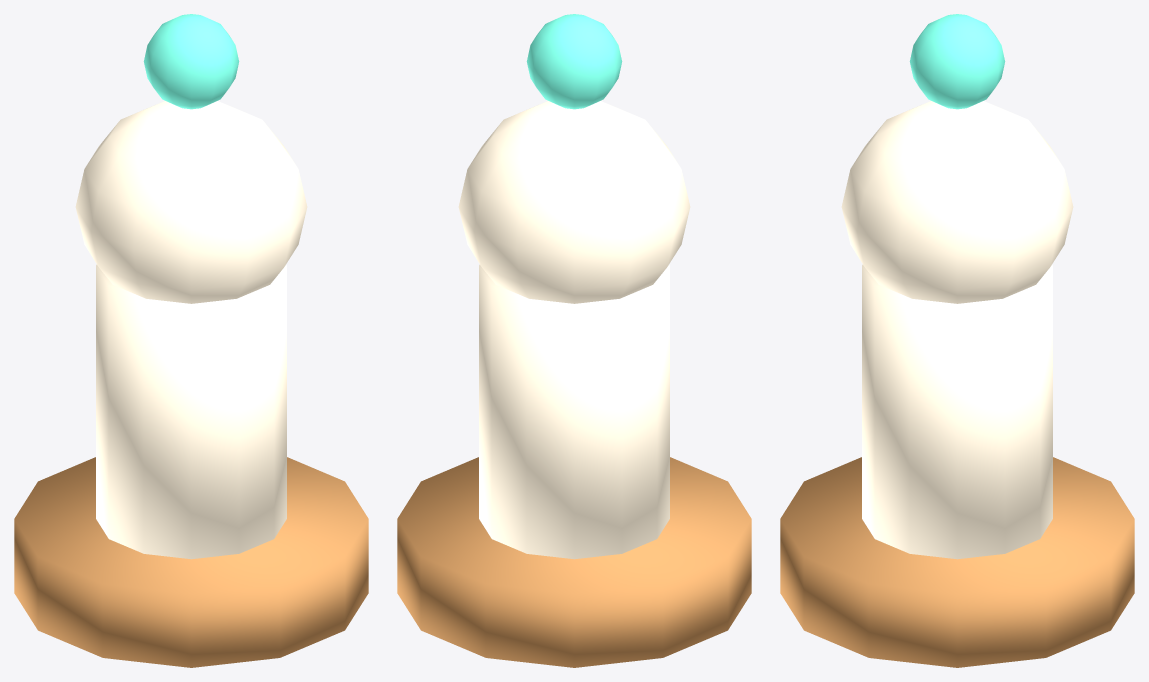
3 views of the same model, side by side, from view 1: azimuth 30°, elevation 25°; view 2: azimuth 150°, elevation 25°; view 3: azimuth 270°, elevation 25° (orthographic).
Visible parts, largest first — view 1: Body_Pillar, Pedestal_Base, Head_Dome, Talk_Orb_Marker; view 2: Body_Pillar, Pedestal_Base, Head_Dome, Talk_Orb_Marker; view 3: Body_Pillar, Pedestal_Base, Head_Dome, Talk_Orb_Marker.
Boxes of the visible parts, x1,y1,x2,y2 form: Body_Pillar: [96, 264, 286, 559]; Pedestal_Base: [14, 457, 368, 667]; Head_Dome: [75, 101, 307, 303]; Talk_Orb_Marker: [143, 14, 239, 109]; Body_Pillar: [479, 264, 669, 559]; Pedestal_Base: [397, 457, 751, 667]; Head_Dome: [458, 101, 690, 303]; Talk_Orb_Marker: [526, 14, 622, 109]; Body_Pillar: [862, 264, 1052, 559]; Pedestal_Base: [780, 457, 1134, 667]; Head_Dome: [841, 101, 1073, 303]; Talk_Orb_Marker: [909, 14, 1005, 109].
Bounding box in the file's own units: 1.04 × 1.86 × 1.04.
